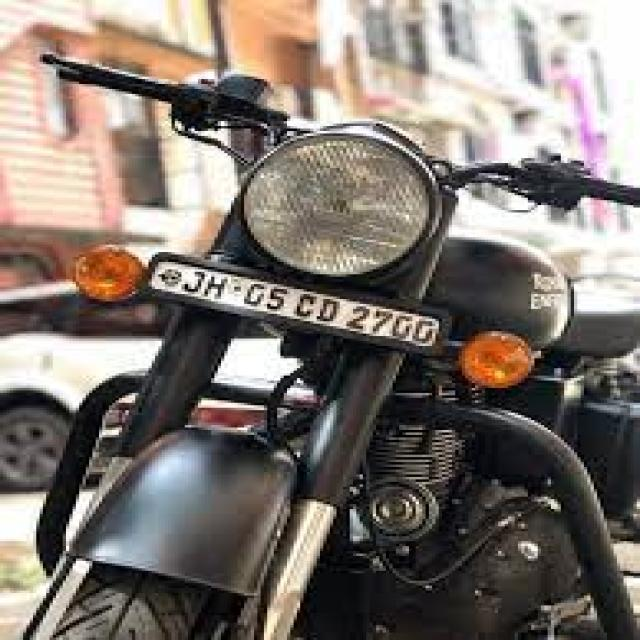license_plate: (146, 250, 446, 354)
